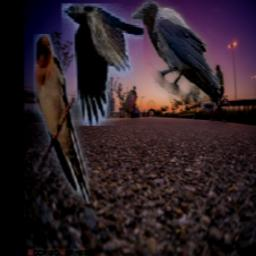Crow: (63, 3, 144, 126), (132, 1, 221, 106)
Swallow: (34, 34, 90, 204)
